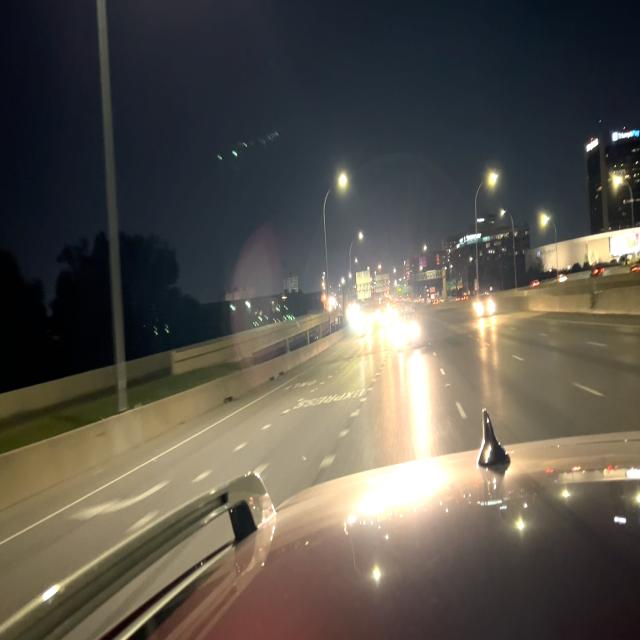back-of-sign: (355, 269, 372, 303), (376, 275, 391, 296)
